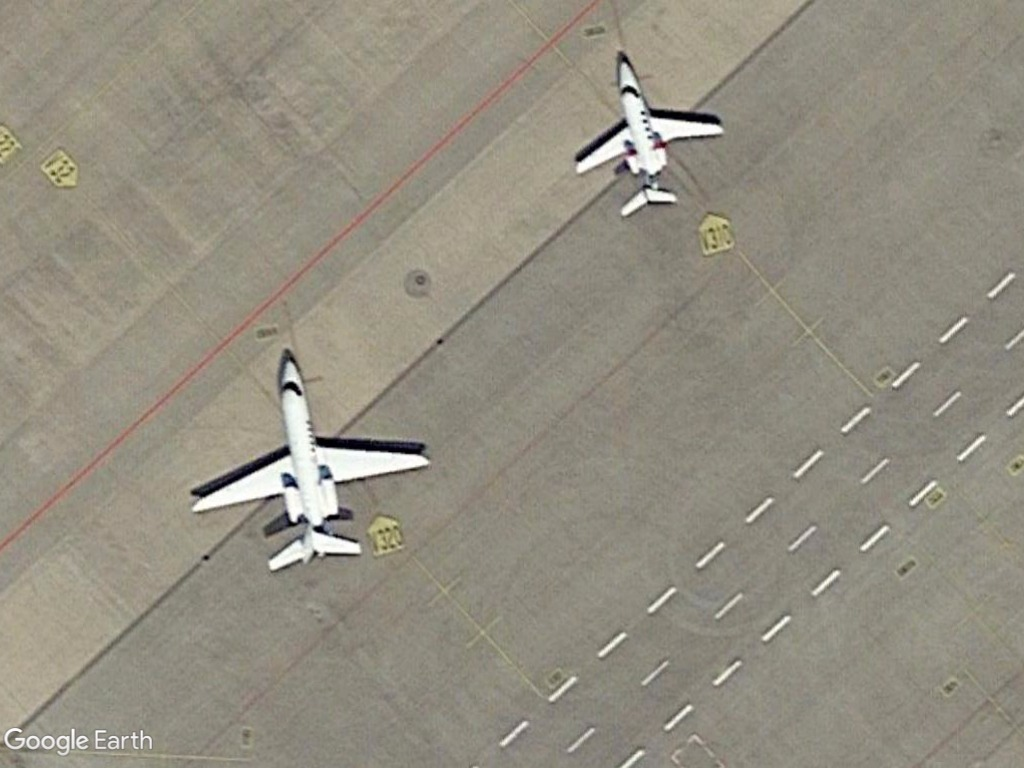chartered: (180, 346, 444, 581), (553, 31, 748, 250)
